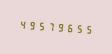five: (35, 18, 43, 33), (80, 21, 88, 36), (71, 21, 79, 35)
four: (17, 17, 25, 31)
nine: (26, 17, 34, 32), (53, 19, 61, 34)
seven: (44, 19, 52, 33)
six: (62, 20, 70, 34)
